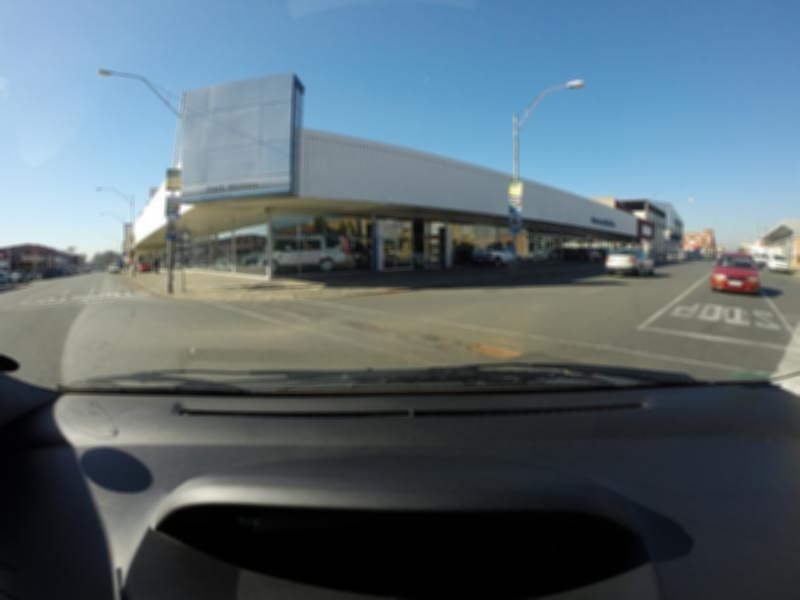pothole: (472, 336, 520, 358), (423, 331, 453, 343)
